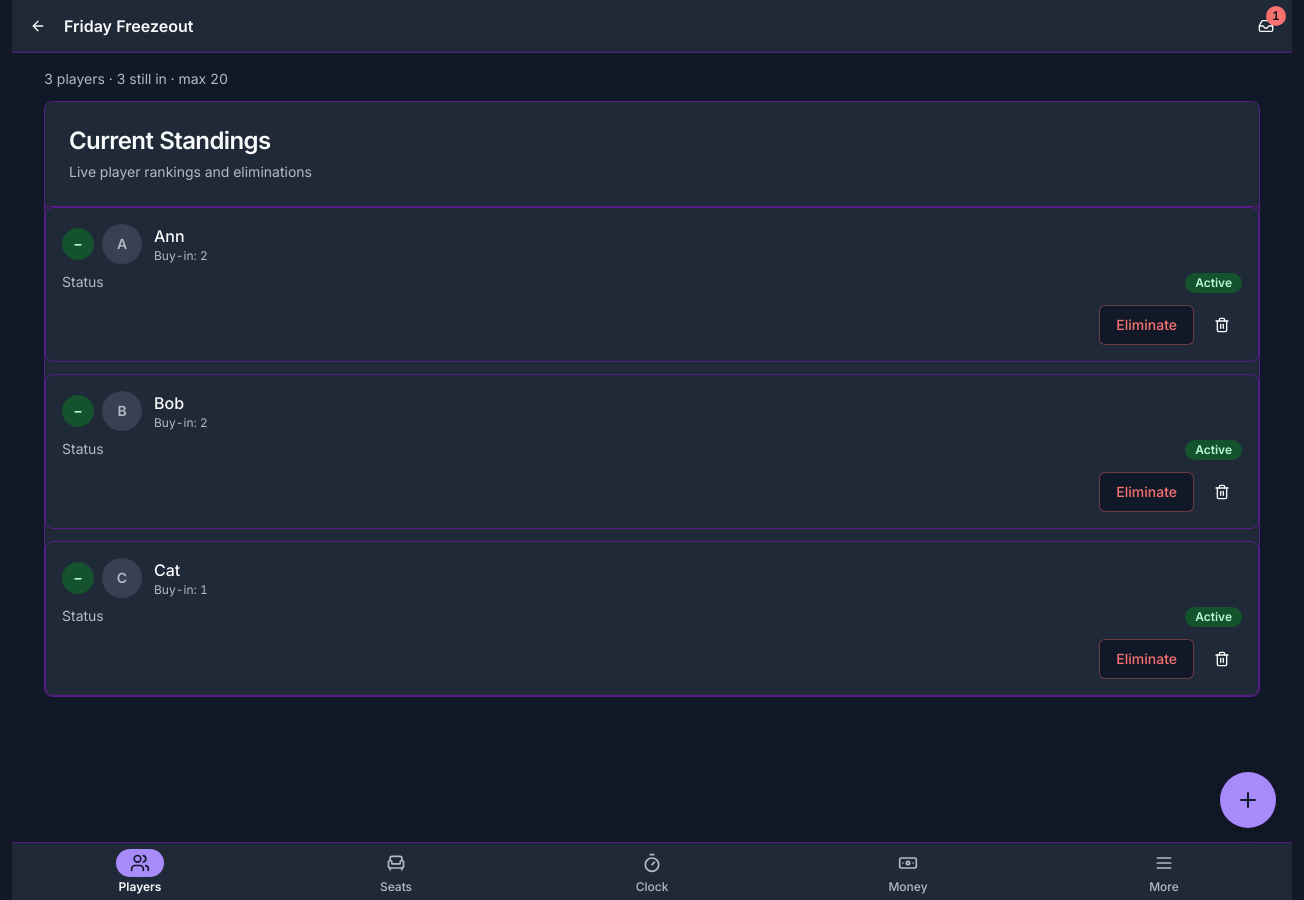
TournamentDetailsPage on a phone: the quick actions › offers the quick actions in thumb reach, re-buy and add-on only where the tournament sells them
Click the button named "Quick actions".
click(1248, 800)  # box [1220,772,1276,828]
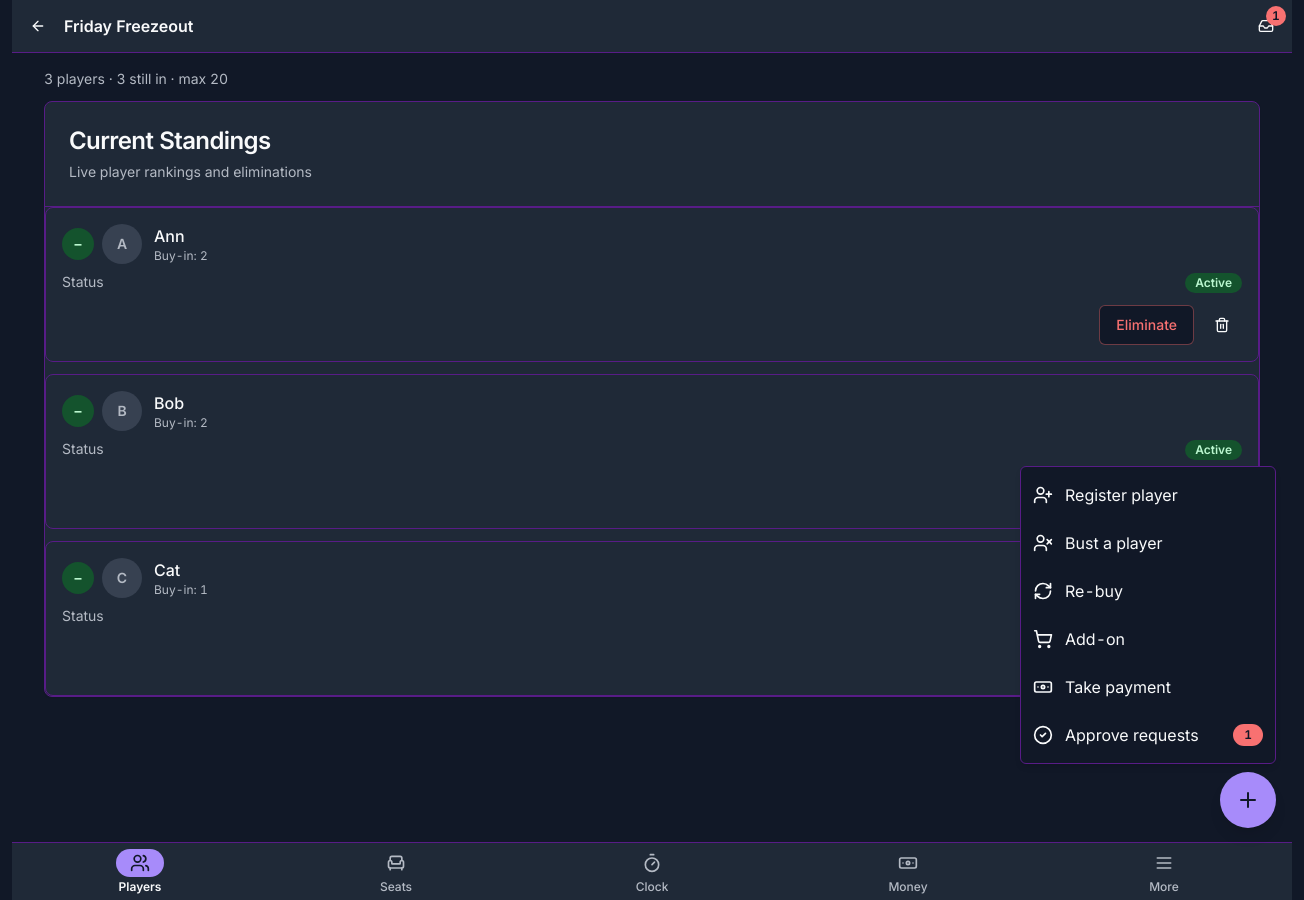
Result: the menu items read "Register player", "Bust a player", "Re-buy", "Add-on", "Take payment", "Approve requests1 waiting", in this order at [1033,485,1178,505]; [1033,533,1163,553]; [1033,581,1123,601]; [1033,629,1125,649]; [1033,677,1171,697]; [1033,724,1263,746]
